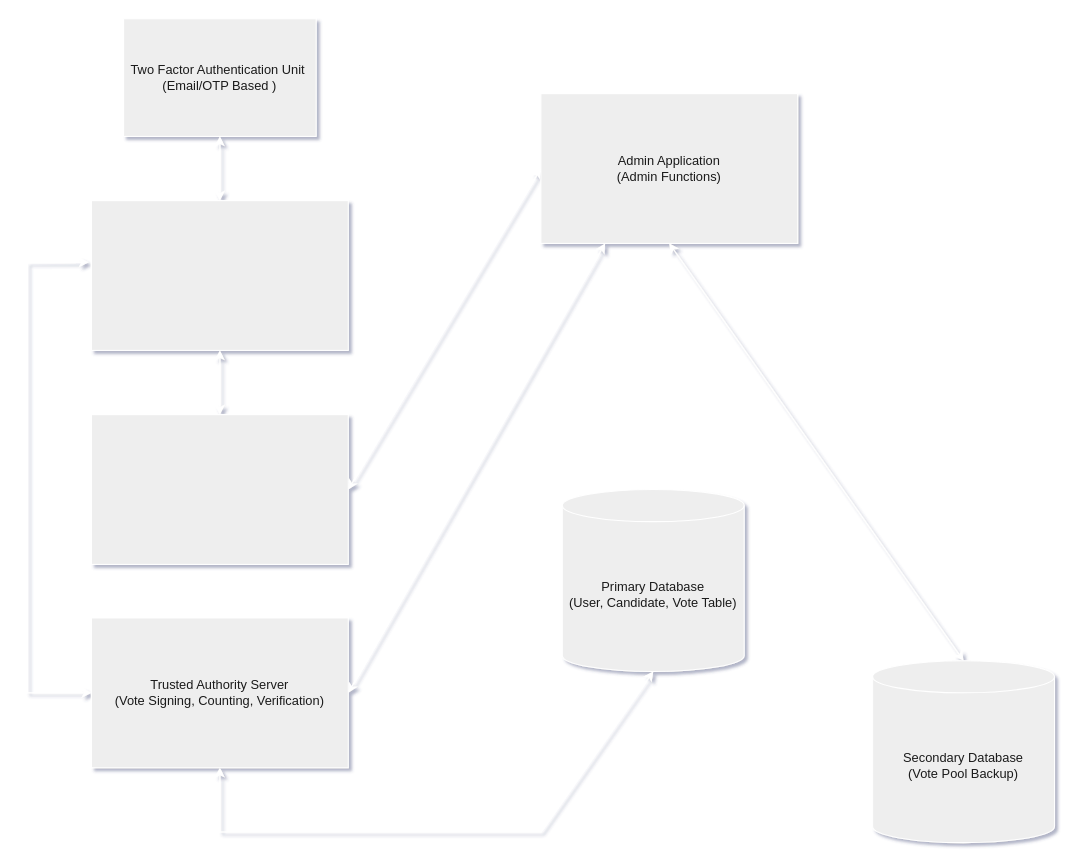
Some shapes in this 1080 by 868 pixel diagram are drawn without their labels. Each missing label, with the centre of its shape:
"Client Application (Voter App - Streamlit)" goes at (x=219, y=275).
"Vote pool Server (Temporary Vote Storage )" goes at (x=219, y=489).
